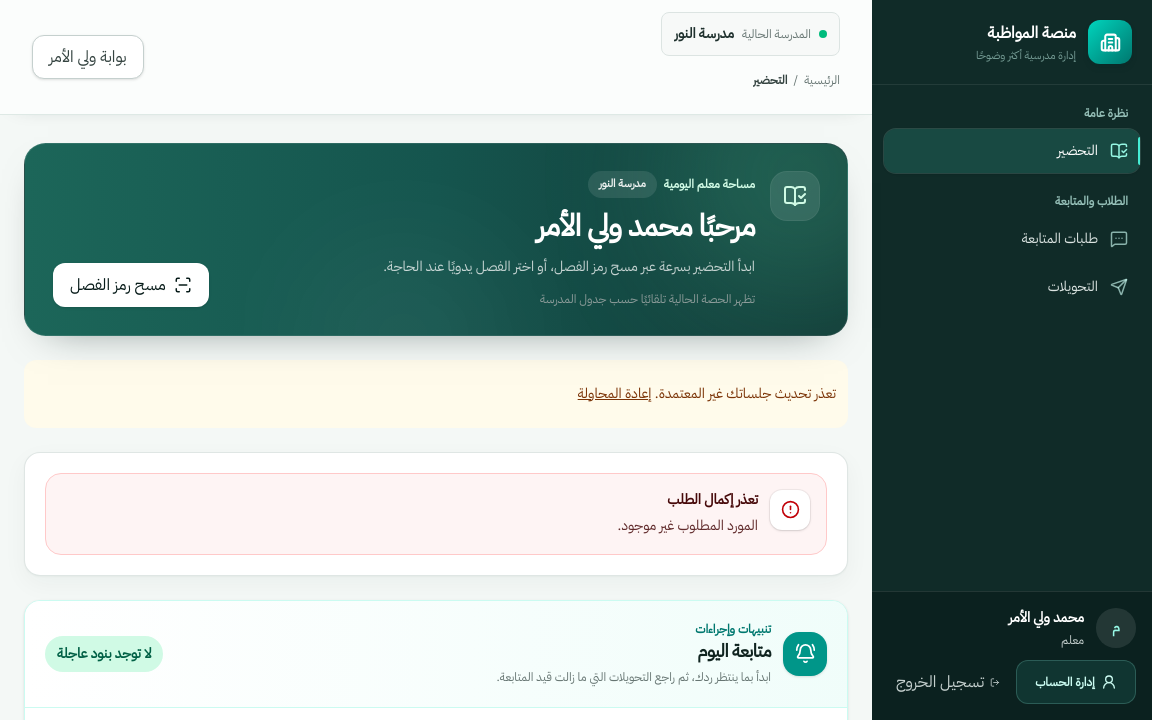
Test: parent portal isolation and family workflows › staff retain their work destination and switching space removes old cached data
Click the button "بوابة ولي الأمر". click: point(88, 57)
box: [32,35,144,79]
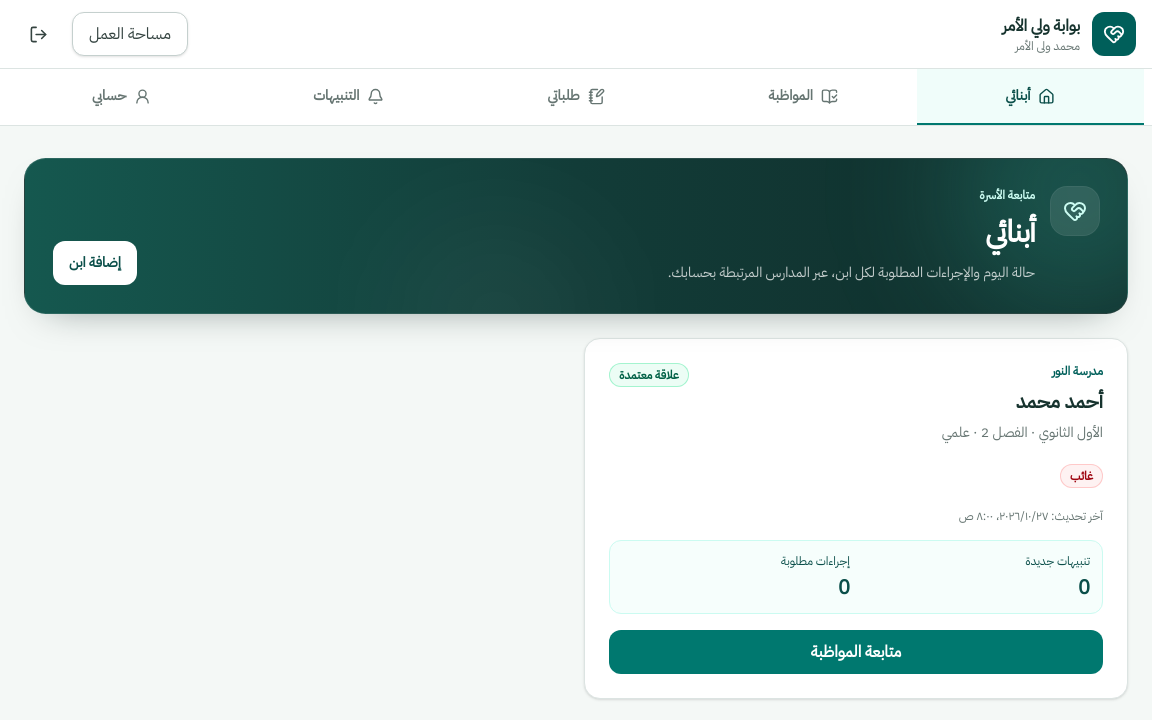
Now the button "مساحة العمل" is shown, box [72,12,188,56]
